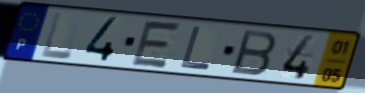4: (81, 15, 120, 65), (278, 33, 314, 81)
B: (229, 28, 279, 78)
E: (128, 19, 185, 71)
L: (39, 10, 75, 61), (179, 24, 213, 72)
